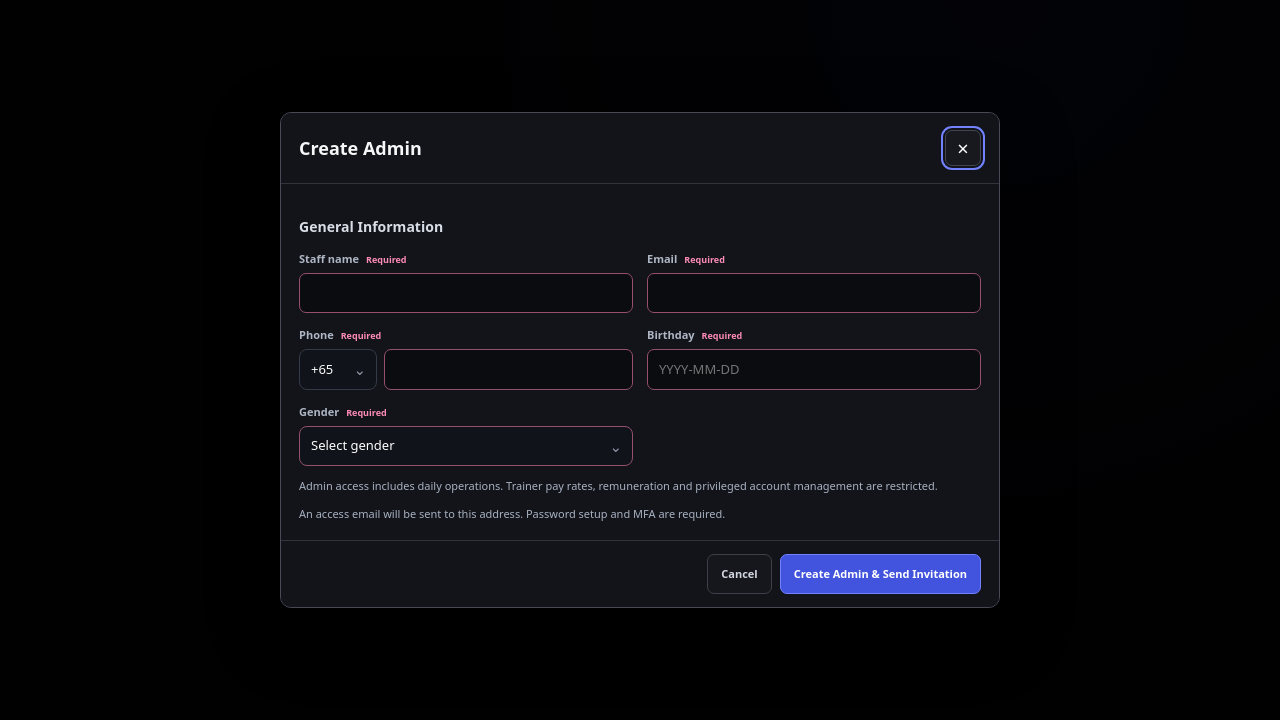
allows correction of a duplicate email rejected before creation
In the field labelled "Staff name": (466, 293) [299,273,633,314], type "New Staff"
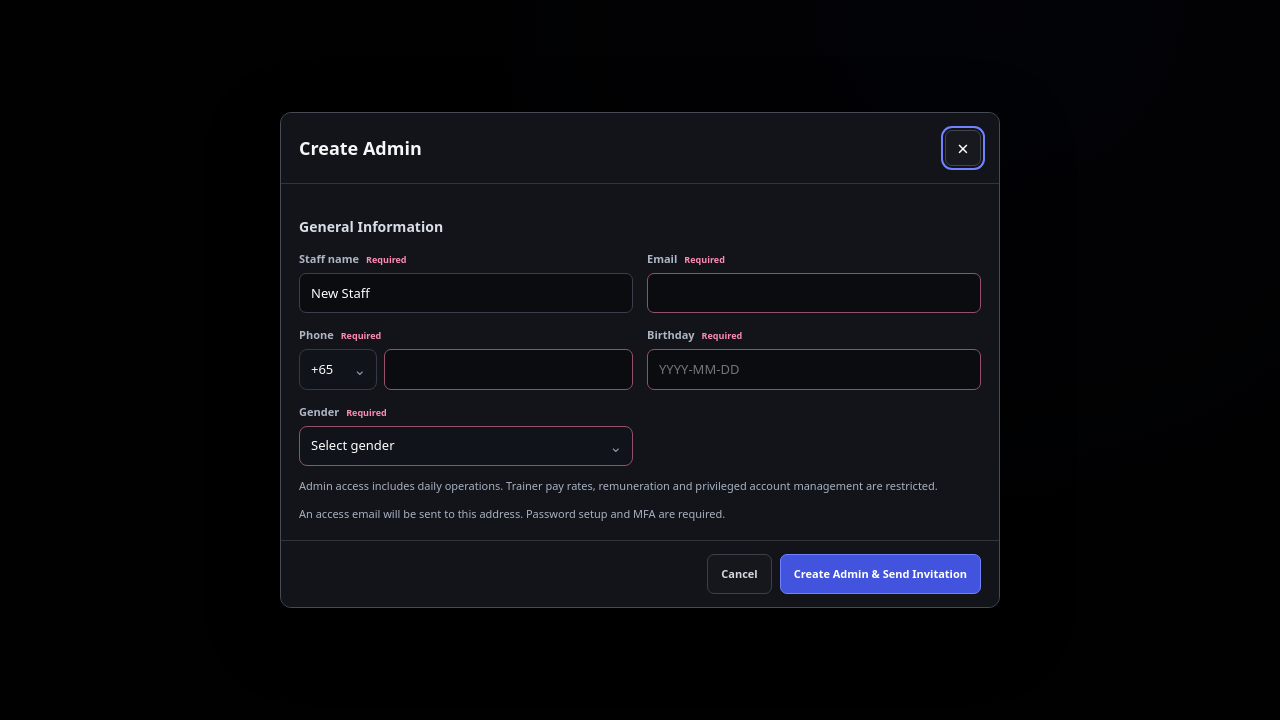
In the field named "Staff email": (814, 293) [647,273,981,314], type " STAFF@EXAMPLE.TEST "
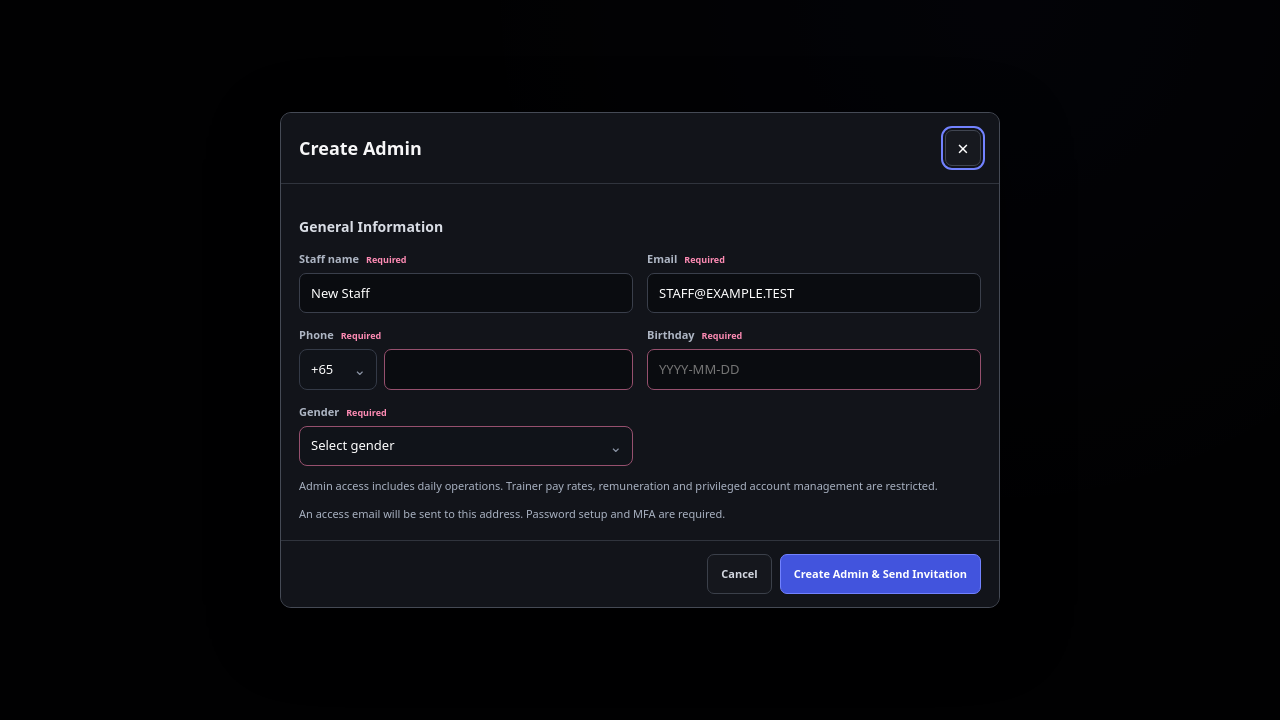
In the field named "Staff phone number": (508, 370) [384,349,633,390], type "91234567"
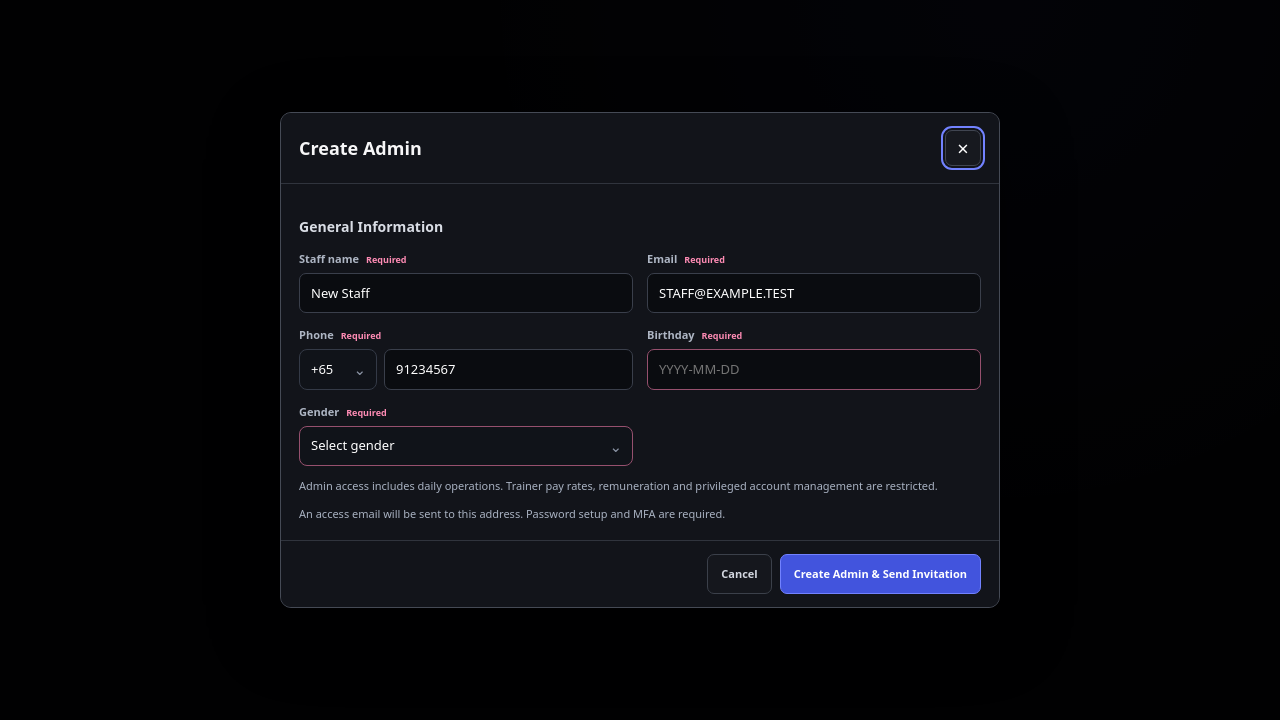
In the field named "Staff birthday": (814, 370) [647,349,981,390], type "1990-01-02"
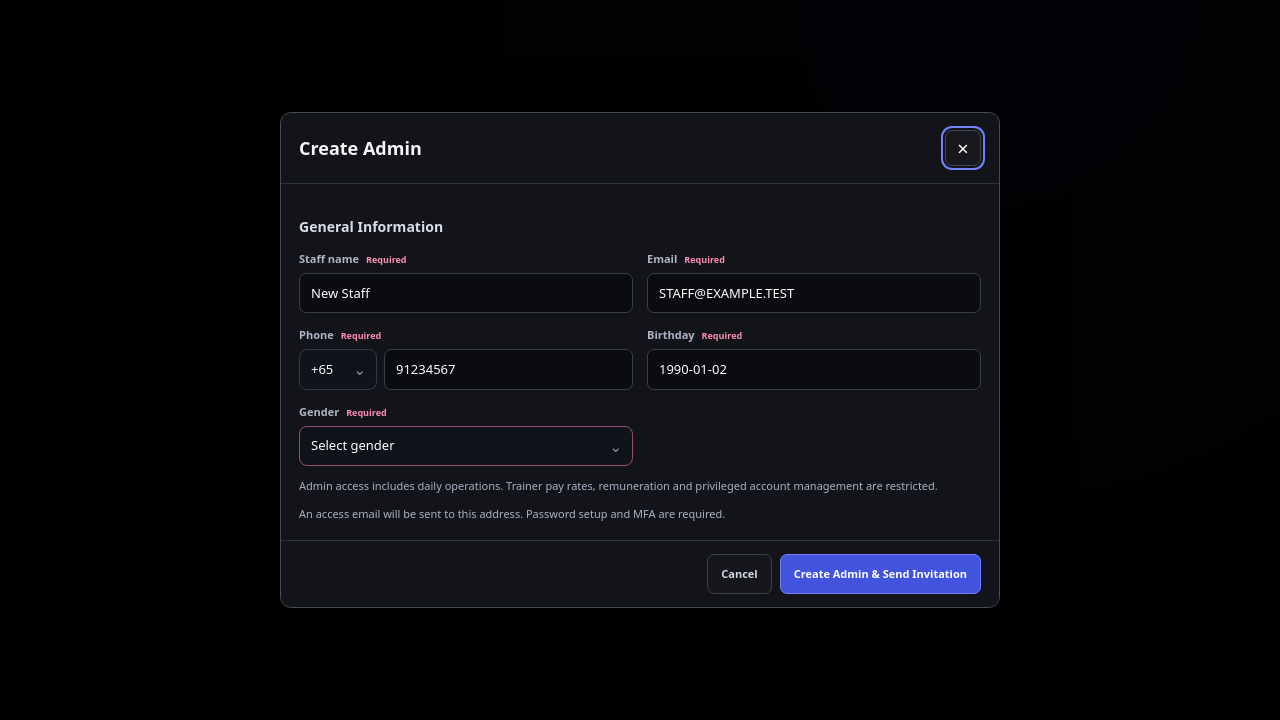
Select "Female" in the dropdown named "Staff gender": (466, 446) [299,426,633,466]
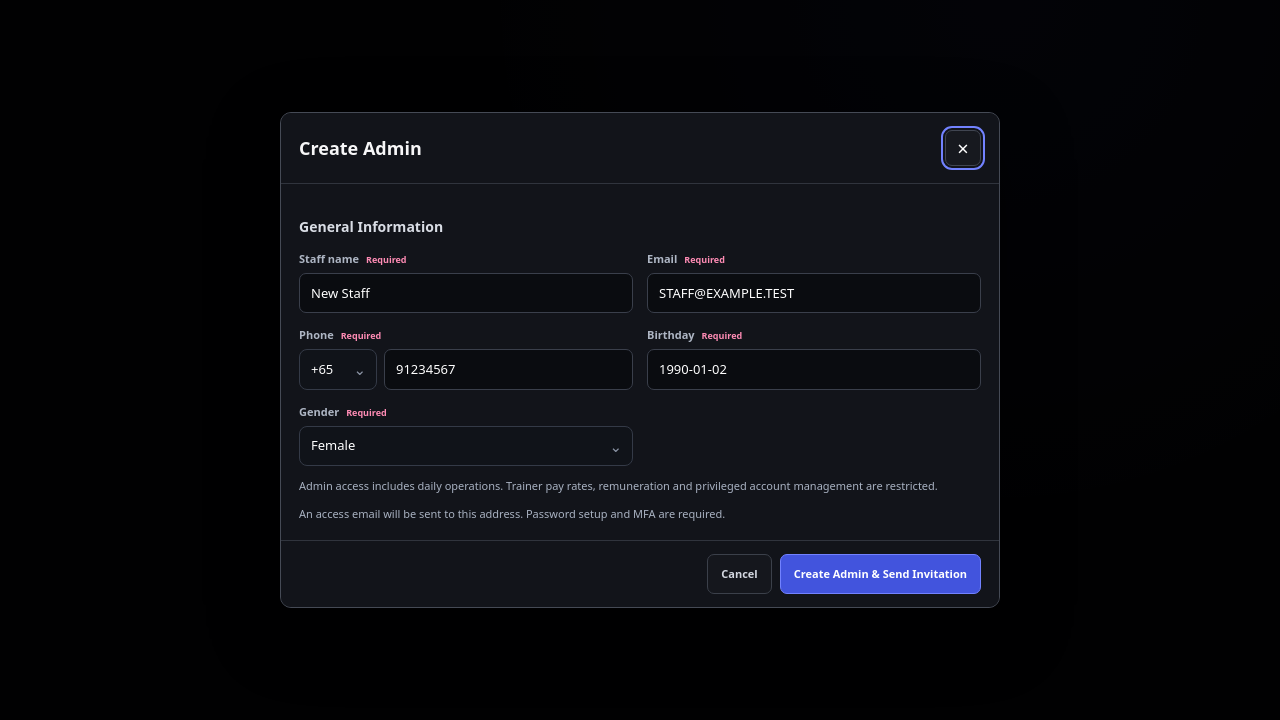
Click the button "Create Admin & Send Invitation": (880, 574) [780,554,981,594]
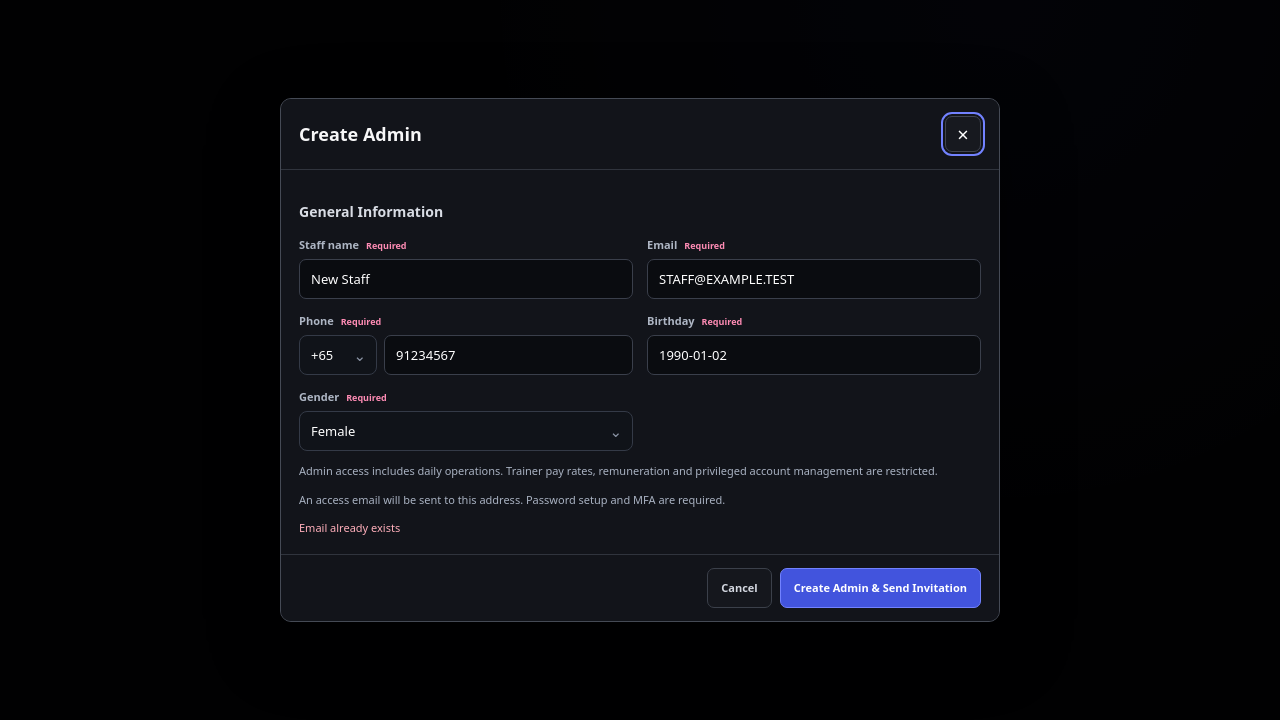
Expected: the field named "Staff email" is enabled, [647,259,981,299]
Expected: the text "Email already exists" is shown, [299,520,400,535]
